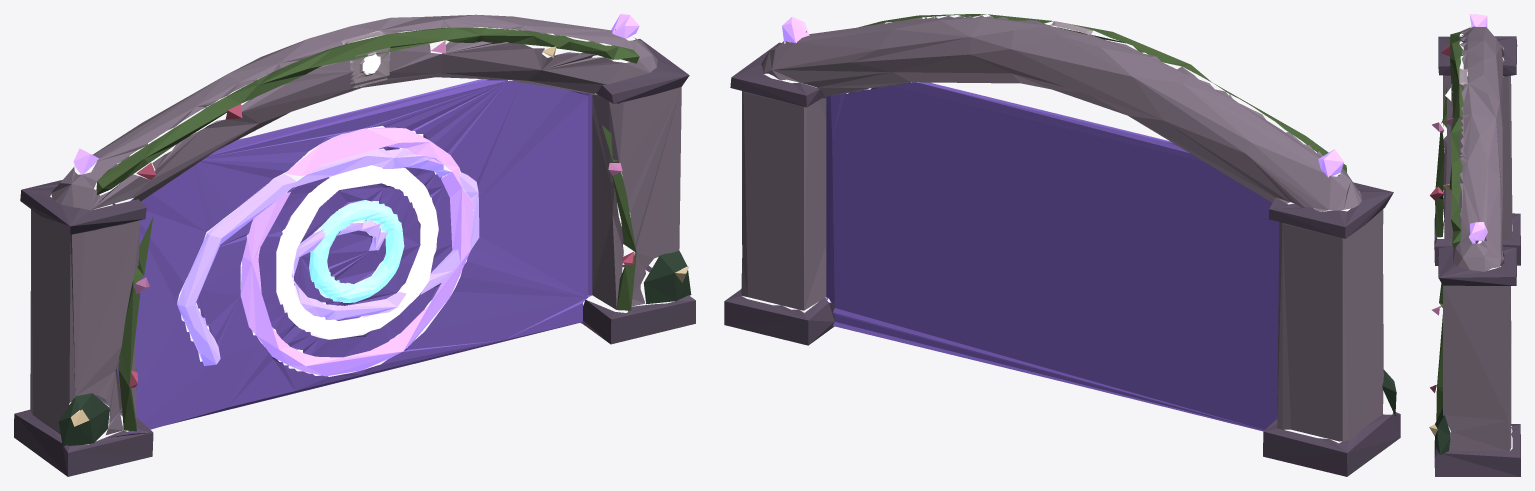
File: portal_arch.glb
3 views of the same model, side by side, from view 1: azimuth 30°, elevation 25°; view 2: azimuth 150°, elevation 25°; view 3: azimuth 270°, elevation 25° (orthographic). The views are drawn at different scales.
Visible parts, largest first — view 1: portal_arch; view 2: portal_arch; view 3: portal_arch.
Part boxes in pixels (box(x1,y1,x2,y2)): portal_arch: box(14, 14, 695, 476); portal_arch: box(724, 14, 1400, 476); portal_arch: box(1429, 14, 1520, 476).
Size of the model in its own units: 7.33 by 3.91 by 1.16.
